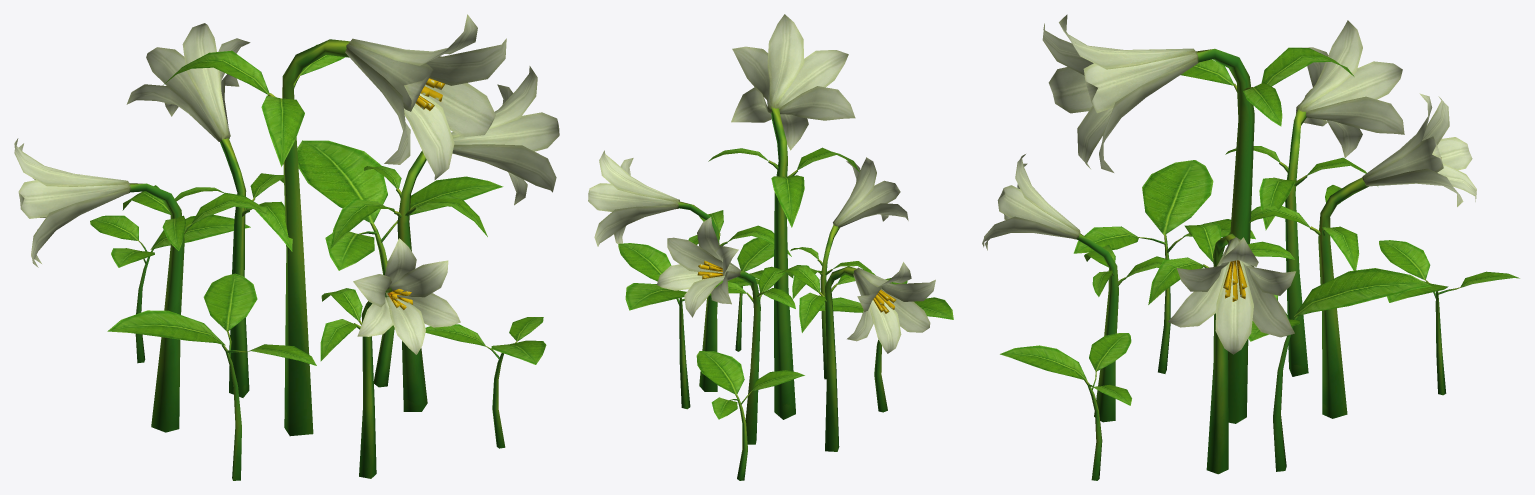
File: flower_07.fbx
3 renders of one model, left to right at view 1: azimuth 30°, elevation 25°; view 2: azimuth 150°, elevation 25°; view 3: azimuth 270°, elevation 25°, orthographic. The views are drawn at different scales.
Parts seen in each view (by area): view 1: flower_07; view 2: flower_07; view 3: flower_07.
Boxes of the visible parts, x1,y1,x2,y2 form: flower_07: (14,14,559,480); flower_07: (588,14,953,480); flower_07: (982,14,1519,480).
Bounding box in the file's own units: 3.69 × 3.37 × 3.68.
